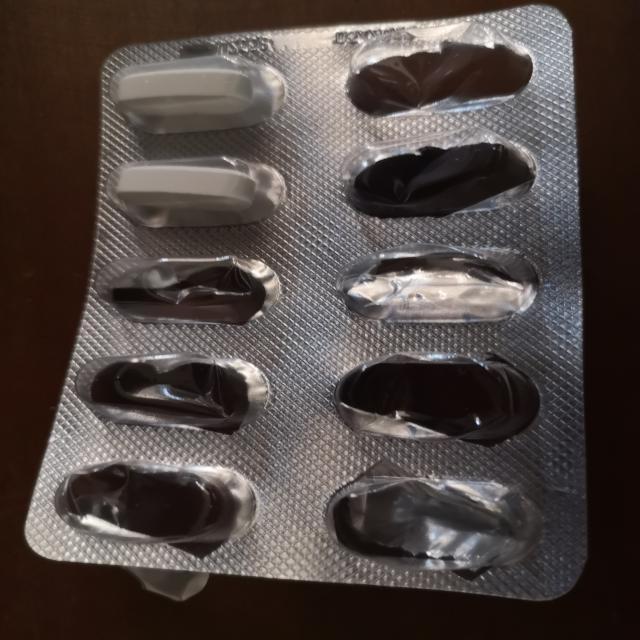Empty: (318, 463, 546, 575), (325, 346, 550, 448), (48, 455, 278, 548), (331, 240, 547, 327), (333, 131, 537, 221), (71, 348, 273, 436), (344, 26, 536, 117), (87, 251, 293, 332)
Pill: (104, 151, 294, 231), (103, 56, 293, 135)
